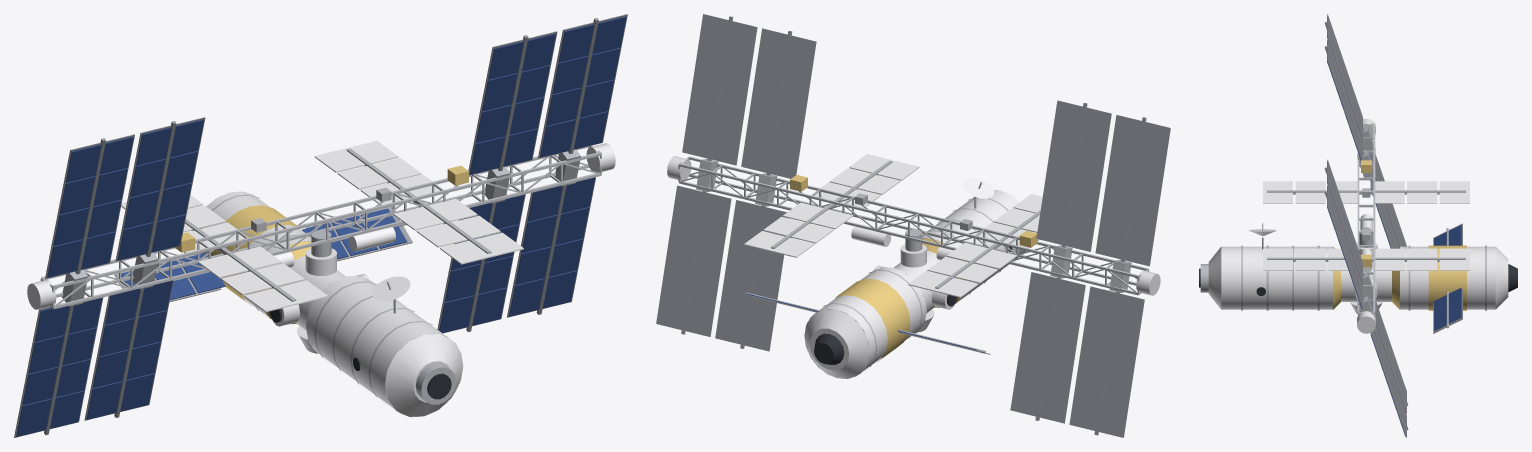
Rendered from estacion_espacial.glb.
The picture shows the model from 3 angles, left to right: view 1: azimuth 30°, elevation 25°; view 2: azimuth 150°, elevation 25°; view 3: azimuth 270°, elevation 25°; orthographic projection. The views are drawn at different scales.
Parts seen in each view (by area): view 1: Panel_Solar_1, Panel_Solar_2, Panel_Solar_4, Panel_Solar_3, Radiadores, Modulo_Laboratorio, Truss_Principal, Paneles_Servicio, Modulo_Servicio, Nodo_Central, Tanques_Equipos, Antena; view 2: Panel_Solar_1, Panel_Solar_2, Panel_Solar_4, Panel_Solar_3, Radiadores, Modulo_Servicio, Truss_Principal, Modulo_Laboratorio, Nodo_Central, Tanques_Equipos, Paneles_Servicio, Antena; view 3: Radiadores, Modulo_Laboratorio, Modulo_Servicio, Panel_Solar_4, Panel_Solar_3, Nodo_Central, Panel_Solar_1, Truss_Principal, Panel_Solar_2, Paneles_Servicio, Tanques_Equipos.
Boxes of the visible parts, x1,y1,x2,y2 form: Panel_Solar_1: [14, 134, 134, 437]; Panel_Solar_2: [84, 117, 205, 420]; Panel_Solar_4: [507, 14, 627, 317]; Panel_Solar_3: [437, 31, 557, 333]; Radiadores: [121, 141, 523, 312]; Modulo_Laboratorio: [306, 275, 463, 417]; Truss_Principal: [27, 143, 615, 309]; Paneles_Servicio: [114, 206, 412, 301]; Modulo_Servicio: [200, 191, 311, 324]; Nodo_Central: [258, 230, 370, 353]; Tanques_Equipos: [174, 165, 468, 269]; Antena: [372, 276, 410, 313]; Panel_Solar_1: [1069, 115, 1170, 437]; Panel_Solar_2: [1010, 100, 1111, 423]; Panel_Solar_4: [656, 14, 757, 336]; Panel_Solar_3: [715, 28, 816, 351]; Radiadores: [744, 154, 1042, 297]; Modulo_Servicio: [804, 267, 926, 378]; Truss_Principal: [667, 156, 1160, 295]; Modulo_Laboratorio: [922, 190, 1031, 307]; Nodo_Central: [873, 229, 965, 331]; Tanques_Equipos: [790, 175, 1037, 262]; Paneles_Servicio: [740, 292, 990, 354]; Antena: [962, 177, 994, 208]; Radiadores: [1263, 181, 1469, 270]; Modulo_Laboratorio: [1199, 245, 1332, 310]; Modulo_Servicio: [1400, 245, 1517, 310]; Panel_Solar_4: [1324, 184, 1408, 437]; Panel_Solar_3: [1324, 159, 1408, 413]; Nodo_Central: [1333, 229, 1399, 309]; Panel_Solar_1: [1324, 14, 1406, 246]; Truss_Principal: [1357, 118, 1375, 333]; Panel_Solar_2: [1324, 38, 1398, 248]; Paneles_Servicio: [1433, 223, 1462, 333]; Tanques_Equipos: [1360, 160, 1372, 271].
Bounding box in the file's own units: 29.4 × 16.48 × 20.
